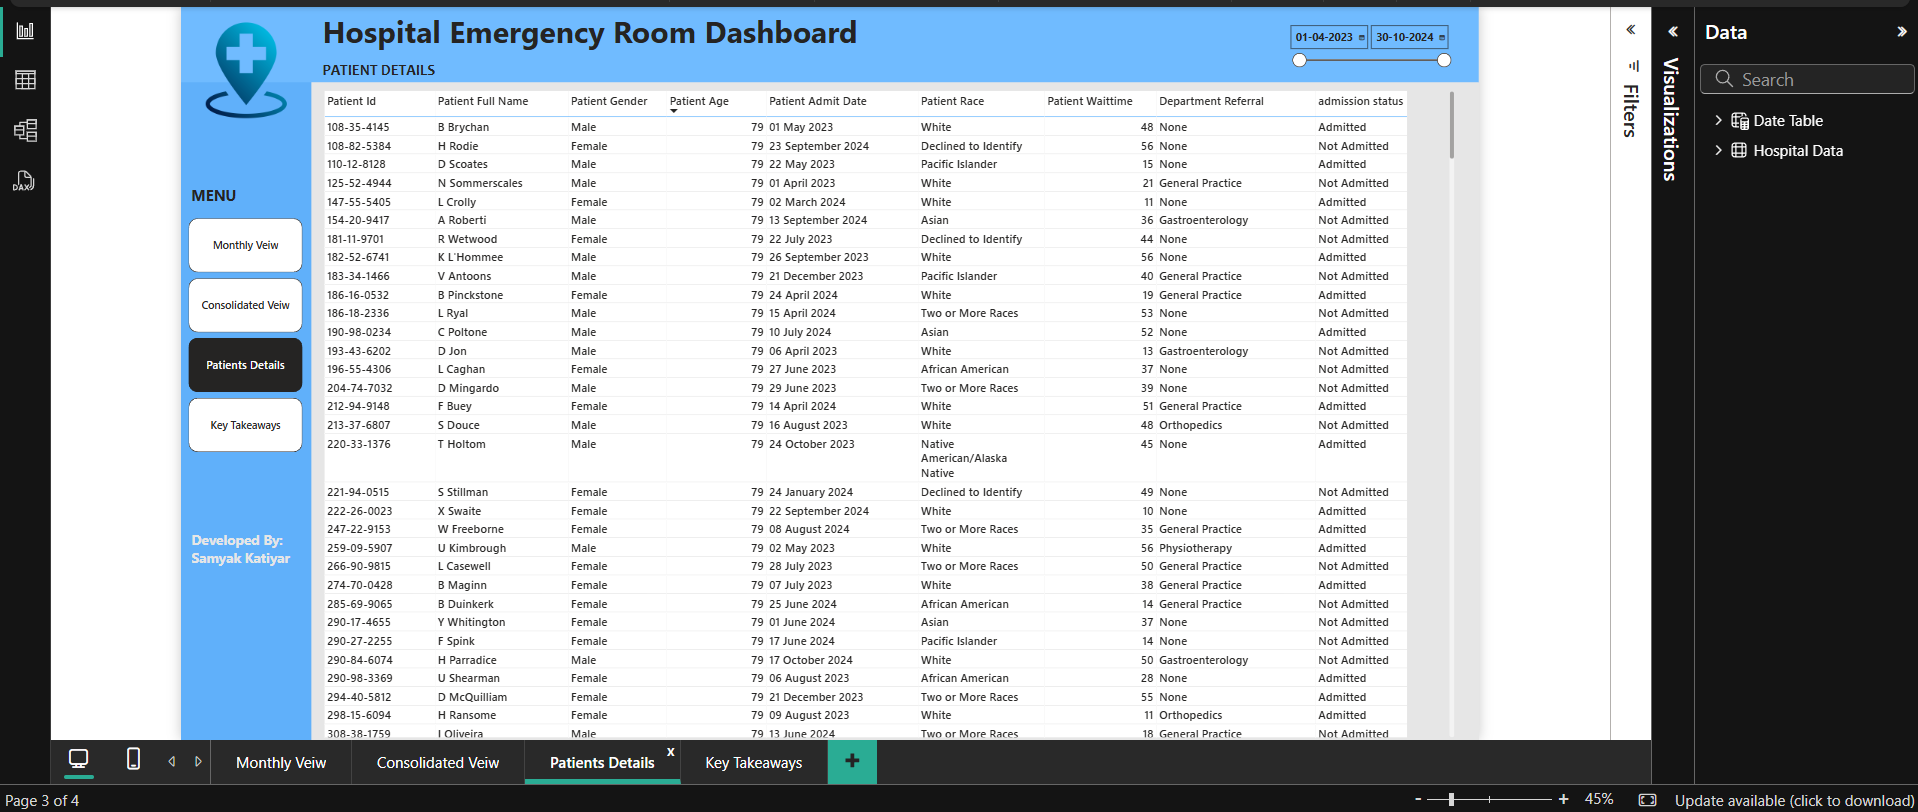

The dashboard page shown, as its layout file describes it:
{"tool":"powerbi","page":{"name":"Patients Details","canvas":[2300,1300],"ordinal":2},"visuals":[{"type":"shape","box":[0,0,231,1300],"z":0},{"type":"image","box":[0,0,231.2,118.8],"z":1000},{"type":"shape","box":[0,0,2300,133.3],"z":2000},{"type":"textbox","box":[245.9,2.2,1001.4,88.6],"z":3000},{"type":"textbox","box":[245.8,91.7,233.3,52.1],"z":4000},{"type":"slicer","fields":{"Values":["Date Table.Date"]},"box":[1954.9,21.6,305.9,123.5],"z":5000},{"type":"image","box":[0,22.2,230.6,180.6],"z":6000},{"type":"tableEx","fields":{"Values":["Hospital Data.Patient Id","Hospital Data.Patient Full Name","Hospital Data.Patient Gender","Sum(Hospital Data.Patient Age)","Hospital Data.Patient Admit Date","Hospital Data.Patient Race","Sum(Hospital Data.Patient Waittime)","Hospital Data.Department Referral","Hospital Data.admission status"]},"box":[247.2,144.4,2013.9,1155.6],"z":7000},{"type":"pageNavigator","box":[14.3,373.5,202,416.3],"z":8000},{"type":"textbox","box":[14.3,310.2,159.2,63.3],"z":9000},{"type":"textbox","box":[13.3,923.8,217.1,95.3],"z":10000}]}

Visuals, with their boxes on the page's 2300x1300 design canvas (x1, y1, x2, y2). These are canvas units, not pixel positions in the 1918x812 screenshot, which may show the page scaled, cropped or inside an application window:
shape: 0,0,231,1300
image: 0,0,231,119
shape: 0,0,2300,133
textbox: 246,2,1247,91
textbox: 246,92,479,144
slicer - Date Table.Date: 1955,22,2261,145
image: 0,22,231,203
tableEx - Hospital Data.Patient Id x Hospital Data.Patient Full Name: 247,144,2261,1300
pageNavigator: 14,374,216,790
textbox: 14,310,174,374
textbox: 13,924,230,1019
